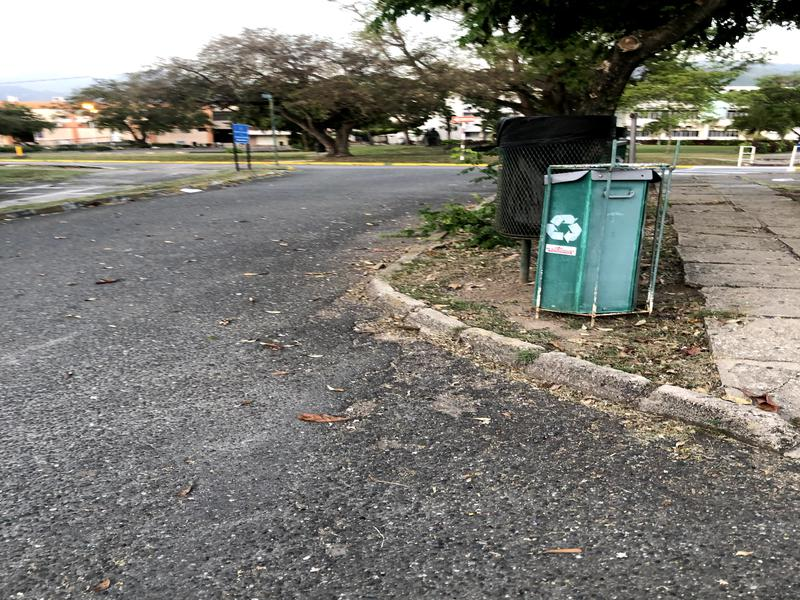18.0053245_-76.7486424_recyclebin: (528, 154, 689, 352)
